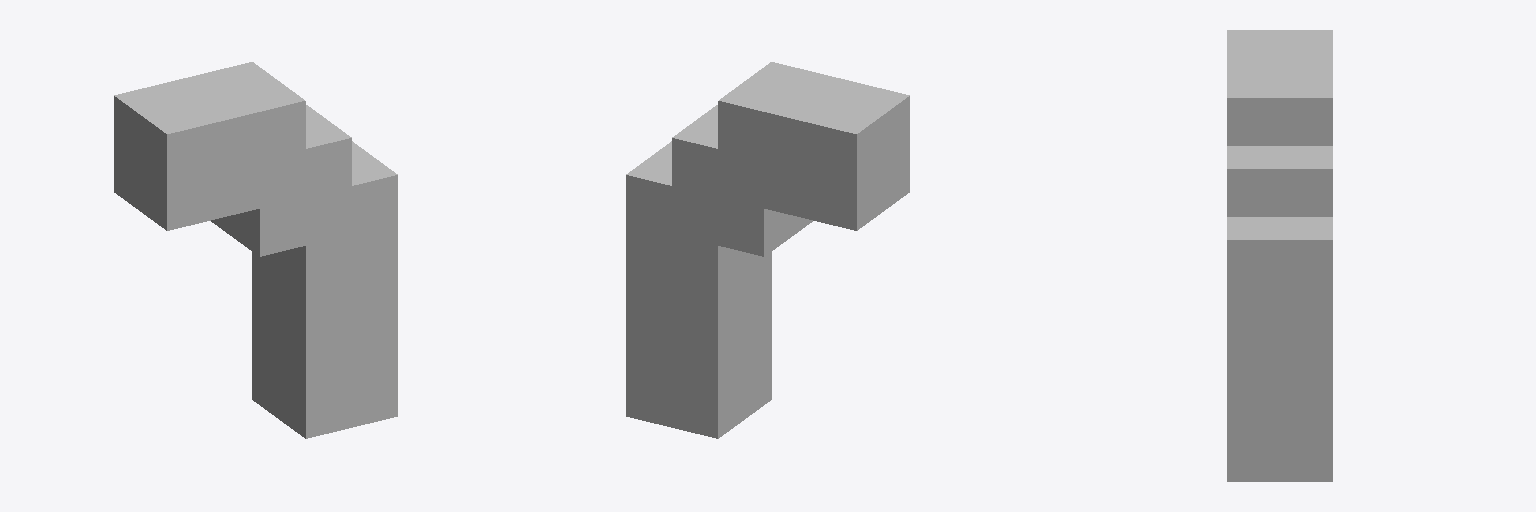
Rendered from Jack o lantern (Tab).obj.
3 renders of one model, left to right at view 1: azimuth 30°, elevation 25°; view 2: azimuth 150°, elevation 25°; view 3: azimuth 270°, elevation 25°, orthographic.
Parts seen in each view (by area): view 1: object 1; view 2: object 1; view 3: object 1.
Part boxes in pixels (bbox=[...]): object 1: bbox=[114, 62, 397, 438]; object 1: bbox=[626, 62, 909, 438]; object 1: bbox=[1227, 30, 1332, 481].
Bounding box in the file's own units: 0.5 × 0.7 × 0.2.